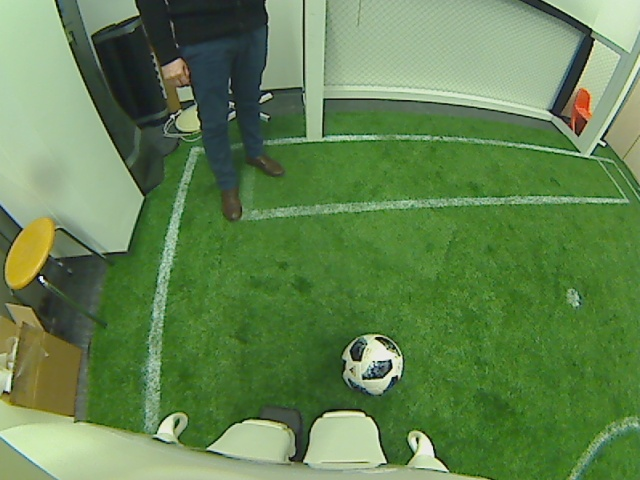ball: (339, 329, 404, 397)
